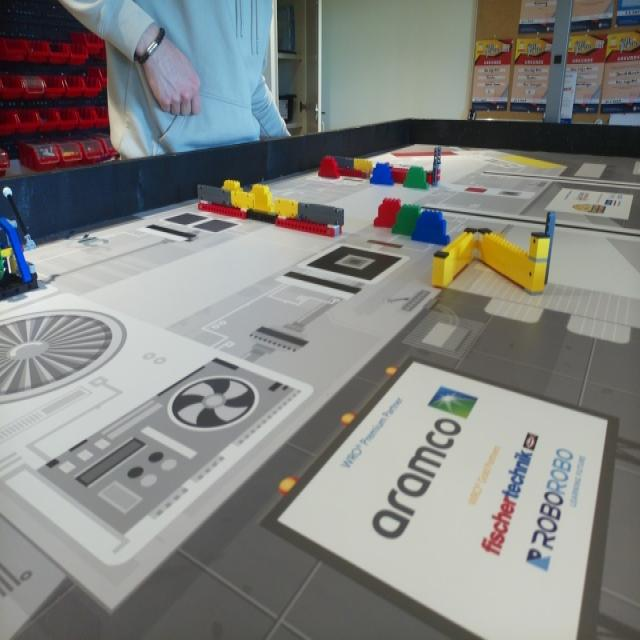blau: (415, 212, 450, 247), (371, 164, 394, 188)
gruen: (394, 207, 423, 236), (405, 167, 427, 190)
rot: (374, 199, 404, 228), (320, 157, 338, 177)
yellow: (254, 183, 275, 214), (218, 179, 242, 189)
